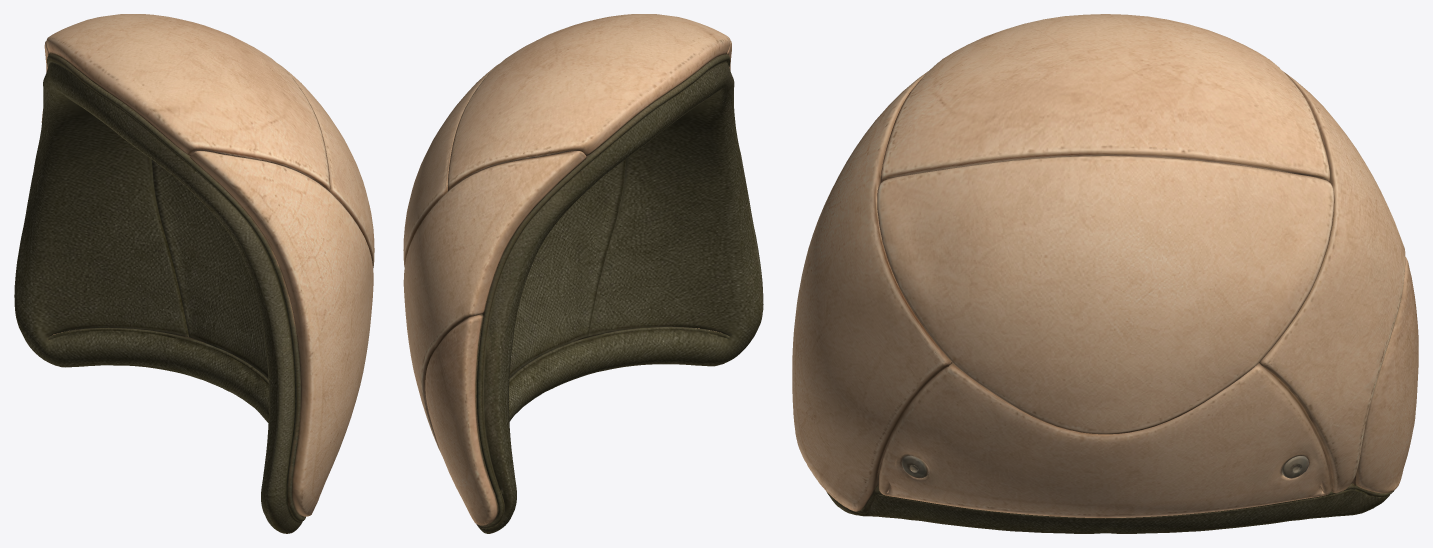
The model's file is curved_bone_3d_model.fbx.
3 views of the same model, side by side, from view 1: azimuth 30°, elevation 25°; view 2: azimuth 150°, elevation 25°; view 3: azimuth 270°, elevation 25° (orthographic). The views are drawn at different scales.
Visible parts, largest first — view 1: tripo_node_940736d6-8e9f-485d-ae0e-493e3690cd56; view 2: tripo_node_940736d6-8e9f-485d-ae0e-493e3690cd56; view 3: tripo_node_940736d6-8e9f-485d-ae0e-493e3690cd56.
Boxes of the visible parts, x1=… form: tripo_node_940736d6-8e9f-485d-ae0e-493e3690cd56: x1=14, y1=14, x2=374, y2=533; tripo_node_940736d6-8e9f-485d-ae0e-493e3690cd56: x1=403, y1=14, x2=763, y2=533; tripo_node_940736d6-8e9f-485d-ae0e-493e3690cd56: x1=792, y1=14, x2=1418, y2=533.
Size of the model in its own units: 0.5125 by 0.8212 by 1.
Materials: 1 (1 with a texture image).
